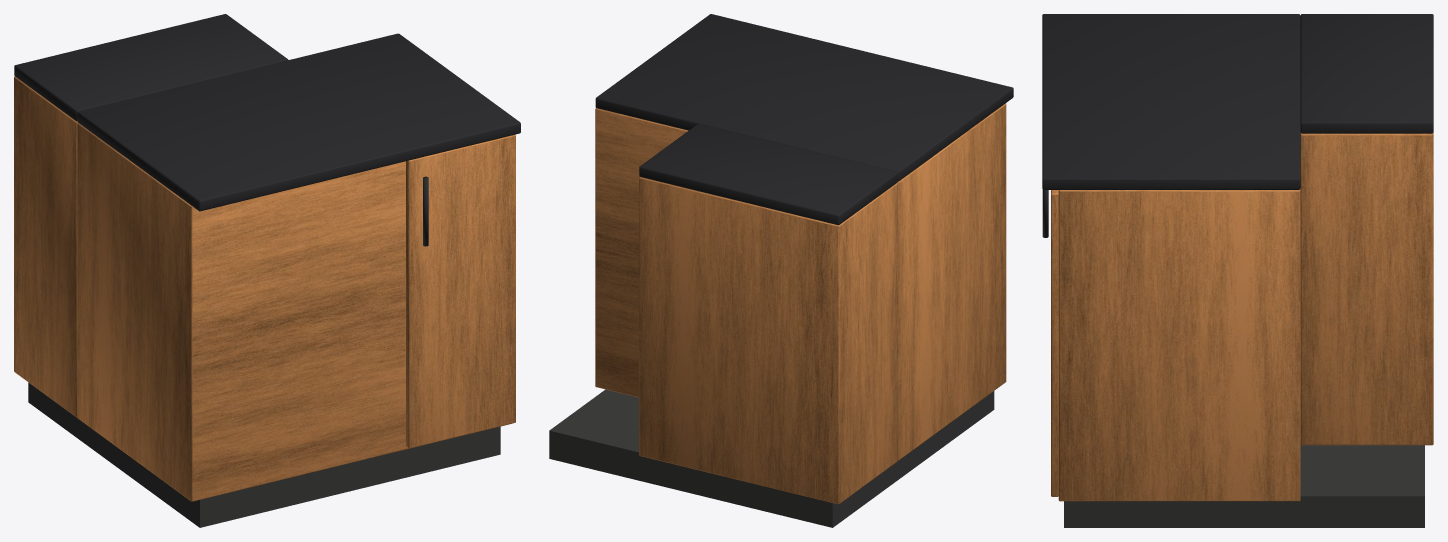
The model's file is kitchen.corner-cabinet.glb.
The picture shows the model from 3 angles, left to right: view 1: azimuth 30°, elevation 25°; view 2: azimuth 150°, elevation 25°; view 3: azimuth 270°, elevation 25°; orthographic projection. The views are drawn at different scales.
Parts seen in each view (by area): view 1: kitchen.corner-cabinet.001; view 2: kitchen.corner-cabinet.001; view 3: kitchen.corner-cabinet.001.
Boxes of the visible parts, bbox=[...] form: kitchen.corner-cabinet.001: bbox=[14, 14, 520, 527]; kitchen.corner-cabinet.001: bbox=[549, 14, 1013, 527]; kitchen.corner-cabinet.001: bbox=[1042, 14, 1433, 527].
Bounding box in the file's own units: 0.9 × 0.9 × 0.9.
Materials: 4 (1 with a texture image).
